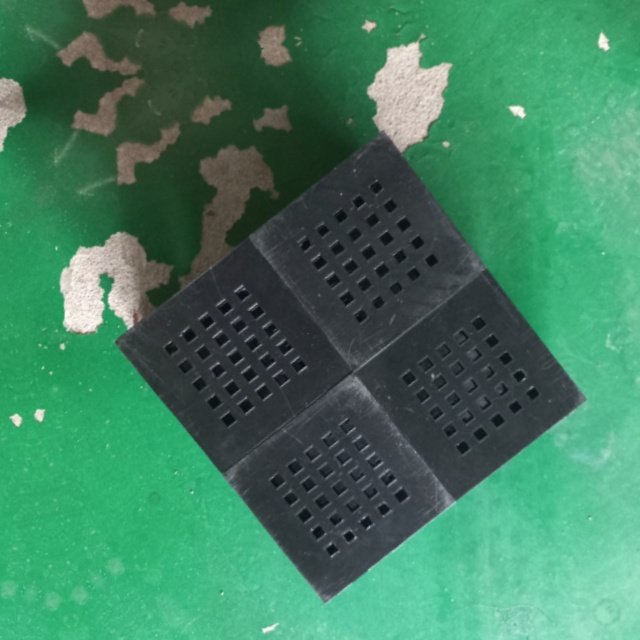pallet: (107, 126, 591, 610)
